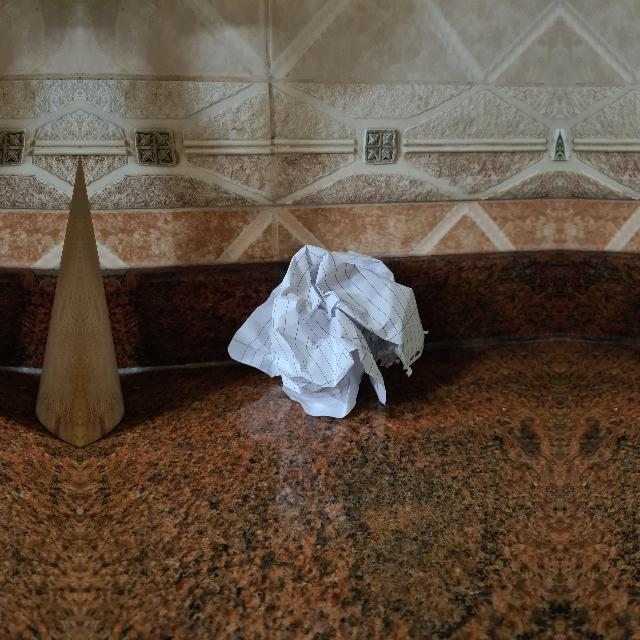paper: (232, 246, 428, 429)
